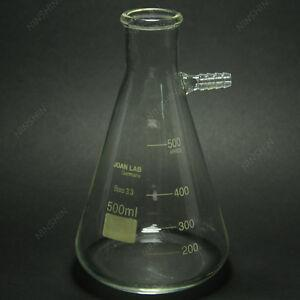Titrarion: (65, 8, 242, 298)
